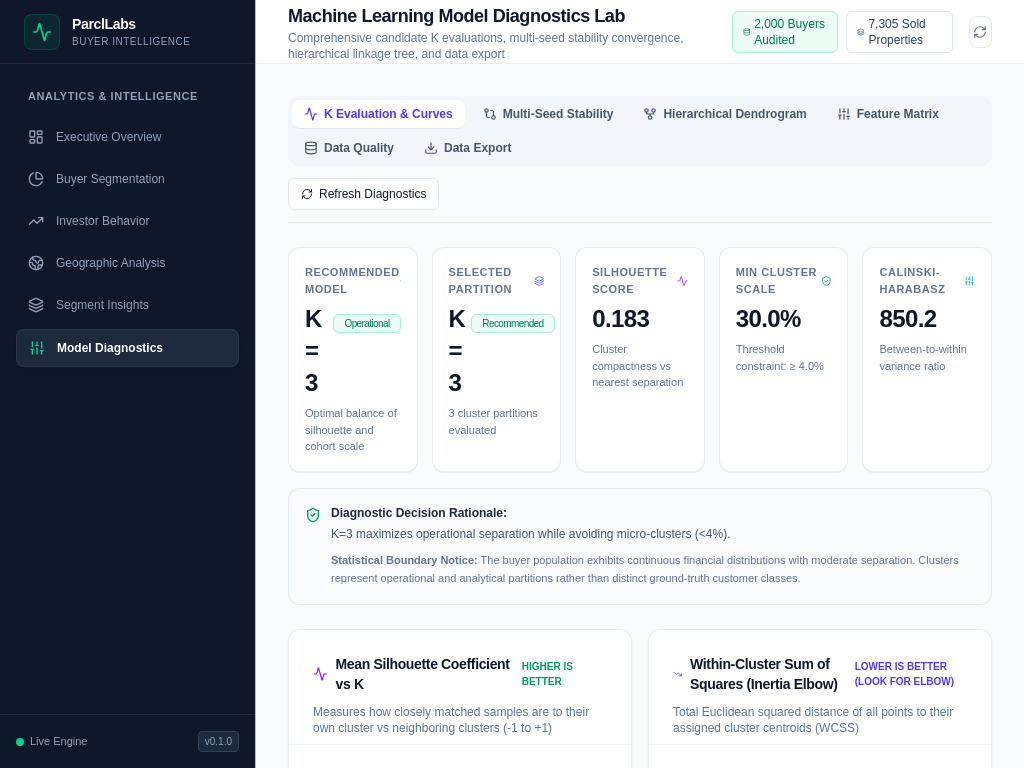
Test: DiagnosticsPage (TICK-12 Model Diagnostics Lab) › switches to export tab and exposes CSV download actions
Expected: the text "Recommended Model" is shown, [305,264,400,297]
Click the button "Data Export".
click(468, 148)  # box [412,134,523,162]
(page scrolled)
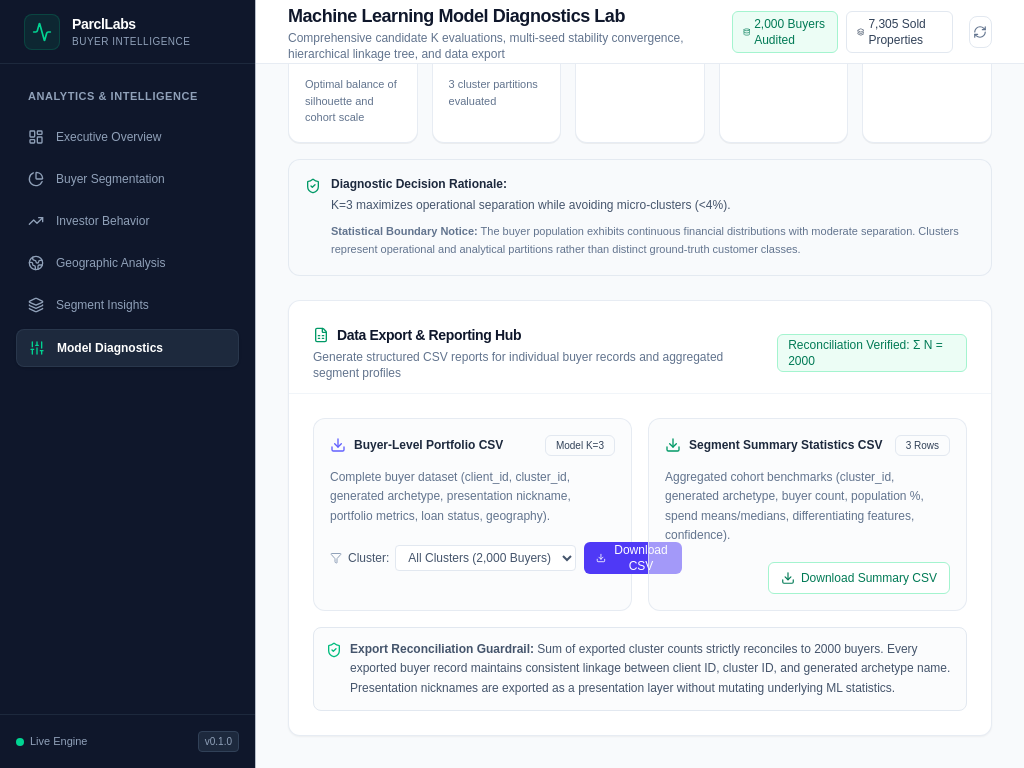
Expected: the heading "Data Export & Reporting Hub" is shown, [313,327,521,343]
Expected: the button "Download CSV" is shown, [584,542,682,574]
Expected: the button "Download Summary CSV" is shown, [768,562,950,594]
